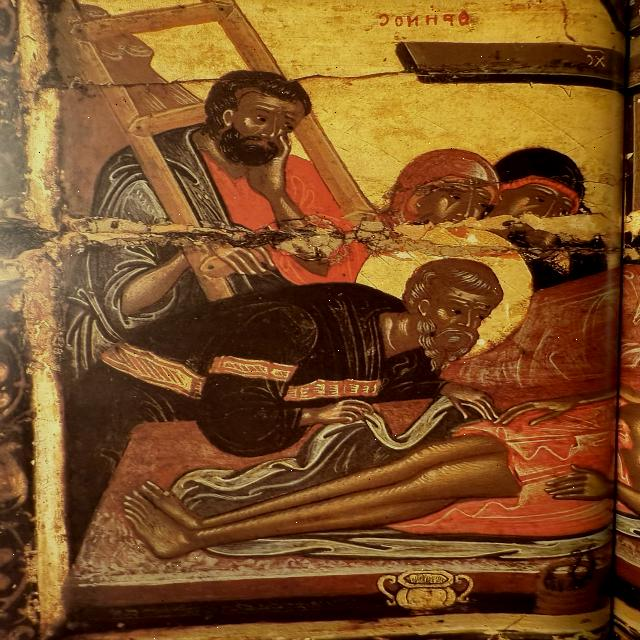aura: (354, 229, 544, 349)
trophy: (363, 564, 481, 618)
